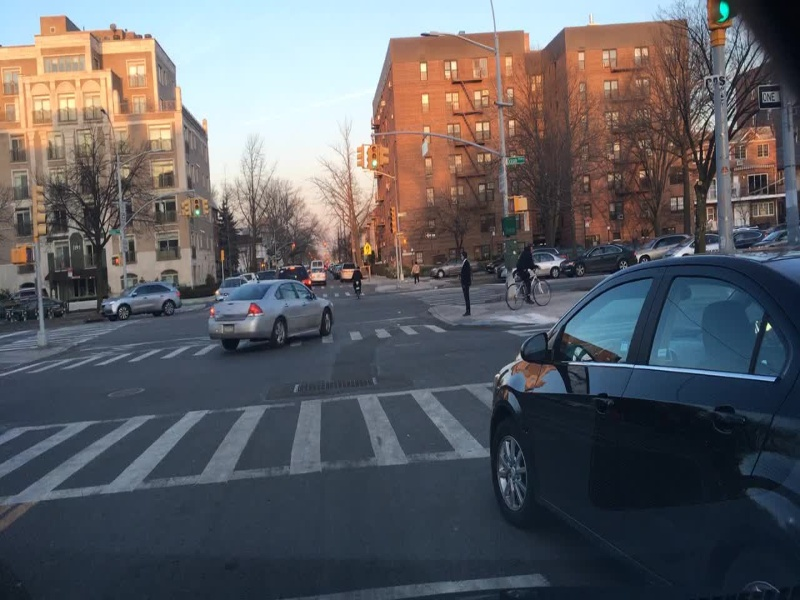car: (488, 243, 797, 600), (203, 278, 338, 366), (95, 277, 185, 324), (562, 243, 637, 278), (635, 234, 691, 256), (531, 247, 566, 276), (214, 273, 246, 297), (310, 270, 330, 286)
cyclist: (497, 240, 558, 311), (349, 263, 368, 302)
person: (456, 248, 479, 319), (407, 260, 425, 285)
